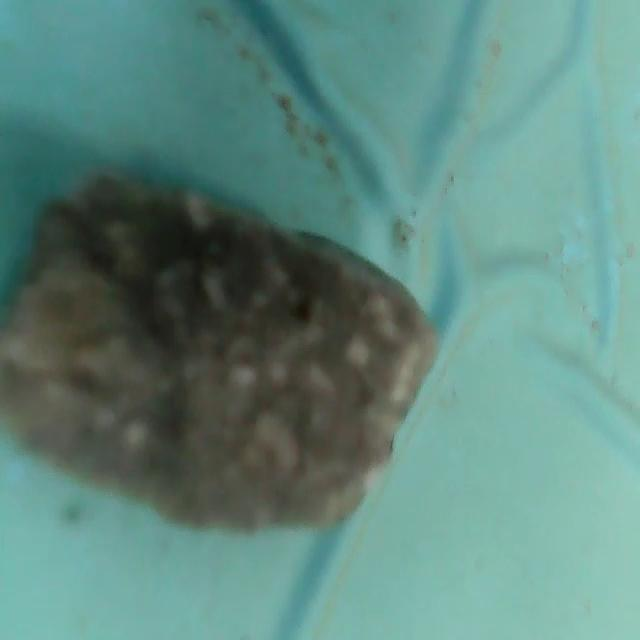rock: (5, 165, 444, 543)
